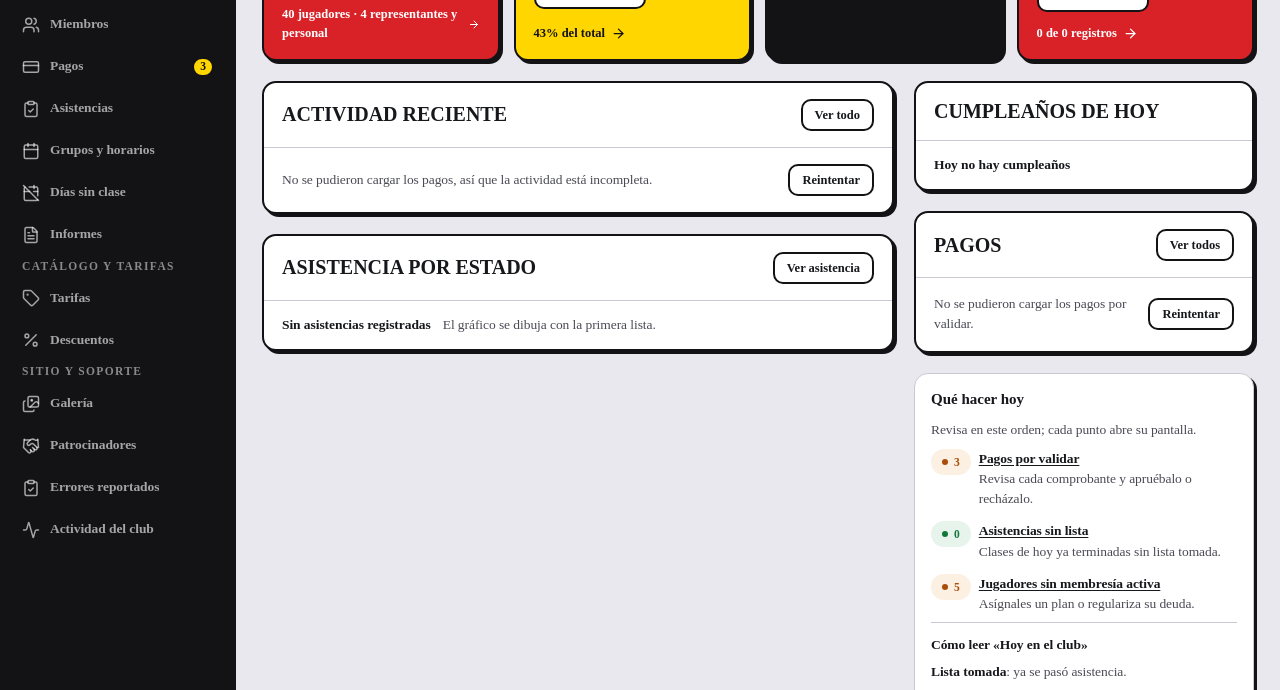
Test: admin dashboard — best-effort failures are visible › tells the admin when payments could not load, and retries
This screenshot has width=1280, height=690.
(page scrolled)
Check: the text "No se pudieron cargar los pagos por validar." is shown, box x1=934 y1=294 x2=1136 y2=335
Click the button "Reintentar" below "Ver todos": point(1191, 314) x1=1148 y1=298 x2=1234 y2=330
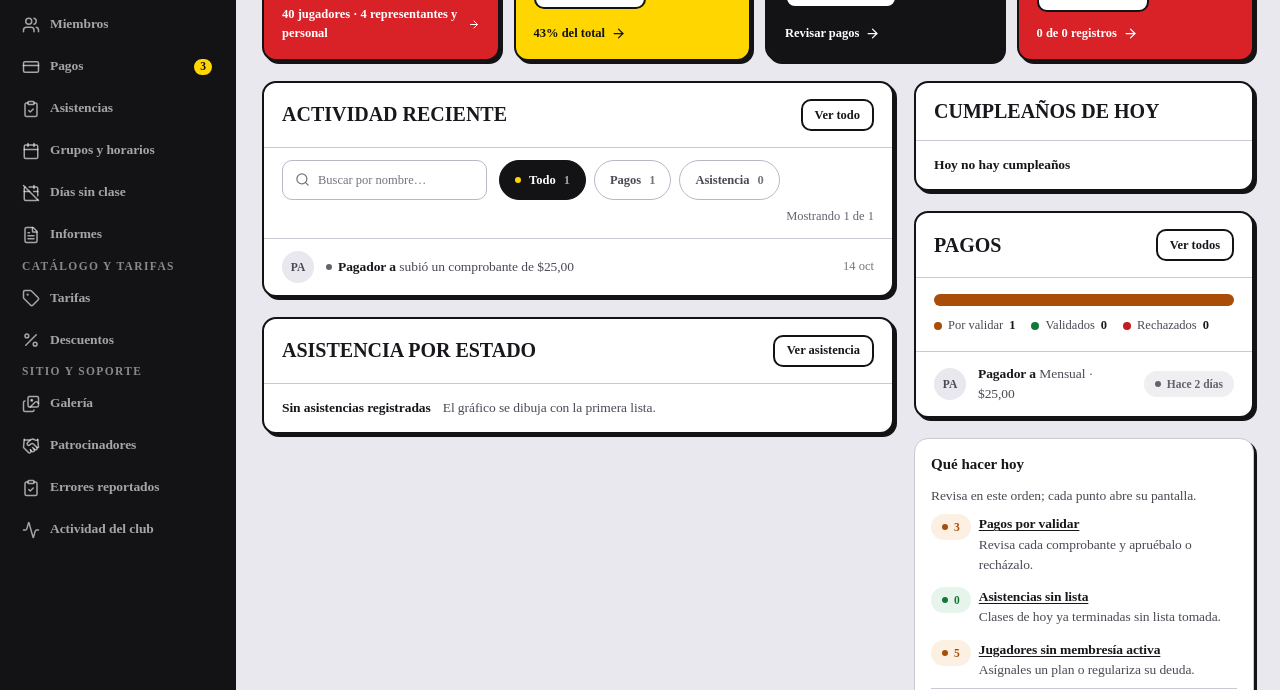
Check: the text "Pagador a" is shown, box x1=978 y1=366 x2=1036 y2=381
